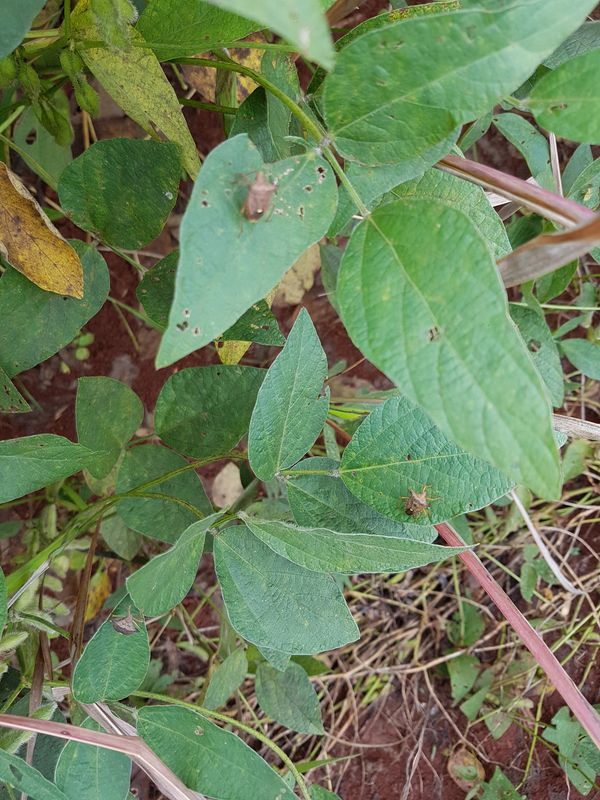Euschistus_heros_adulto: (223, 164, 290, 230), (392, 477, 445, 528), (103, 601, 150, 645)
